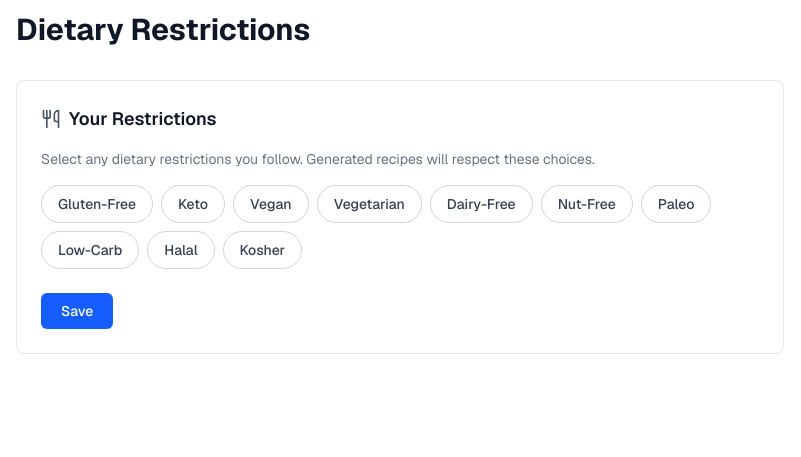
Test: DietaryRestrictionsPage › retains selections and shows an error when saving fails
Click the switch labelled "Vegan" at x=271, y=204, box [233,185,309,223]
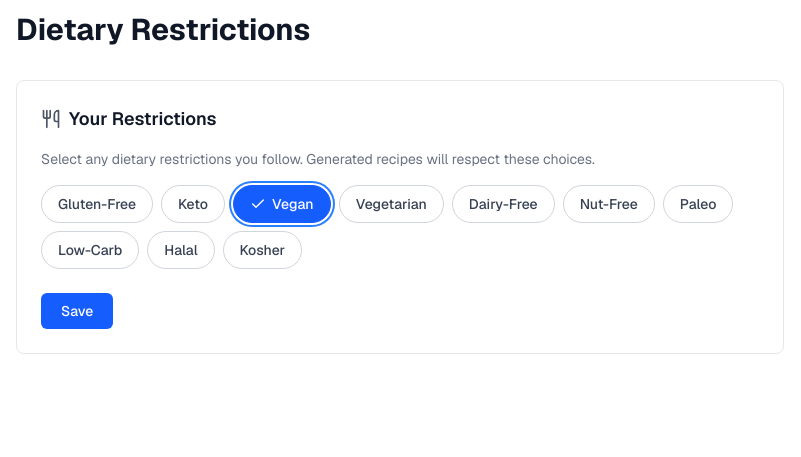
Click the button "Save" at x=77, y=311, box [41,293,113,329]
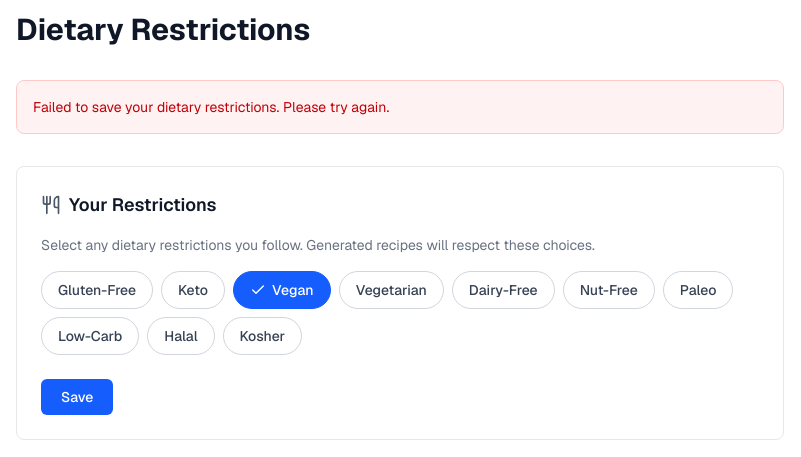
Result: the text "Failed to save your dietary restrictions. Please try again." is shown at [16,80,784,134]
